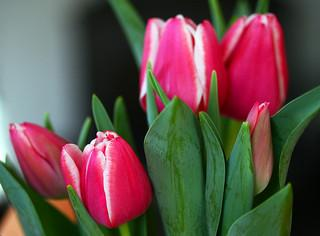tulip: (141, 15, 226, 114), (223, 13, 294, 120), (79, 128, 151, 226), (8, 117, 74, 206), (242, 98, 287, 193)
